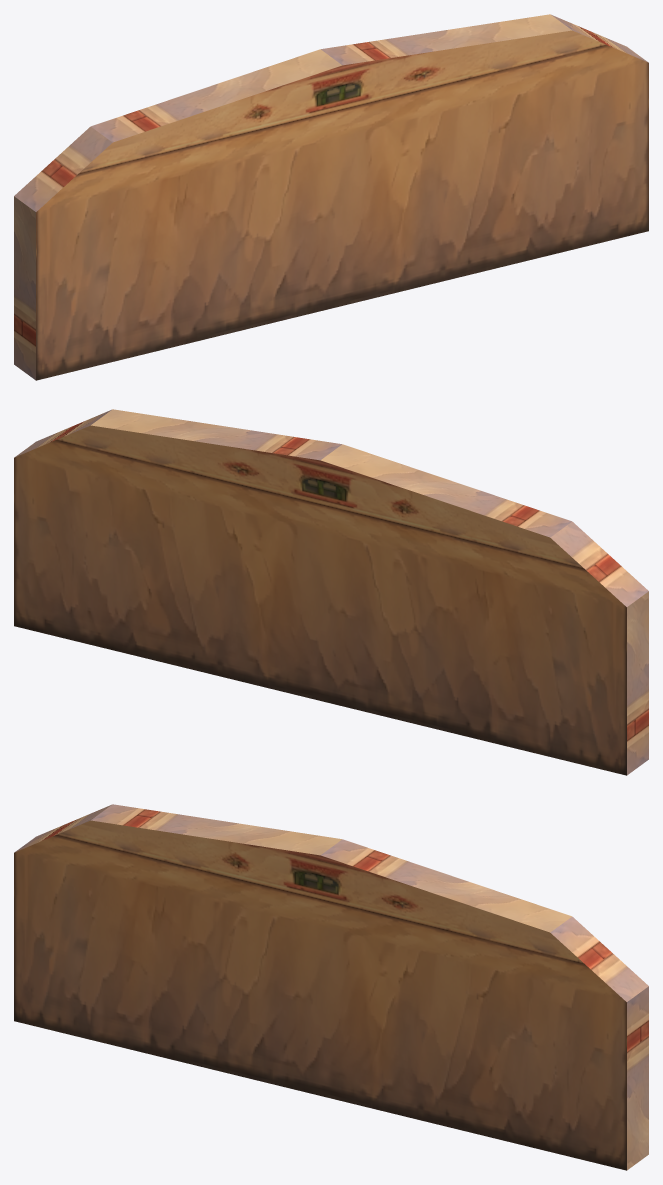
Rendered from MSN_Parapet4.fbx.
The picture shows the model from 3 angles, top to bottom: view 1: azimuth 30°, elevation 25°; view 2: azimuth 150°, elevation 25°; view 3: azimuth 330°, elevation 25°; orthographic projection.
Parts seen in each view (by area): view 1: MSN_Parapet4; view 2: MSN_Parapet4; view 3: MSN_Parapet4.
Part boxes in pixels (x1,y1,x2,y2): MSN_Parapet4: [14, 14, 648, 380]; MSN_Parapet4: [14, 409, 648, 775]; MSN_Parapet4: [14, 804, 648, 1170].
Bounding box in the file's own units: 4 × 0.25 × 1.5.
1 material, 1 textured.
